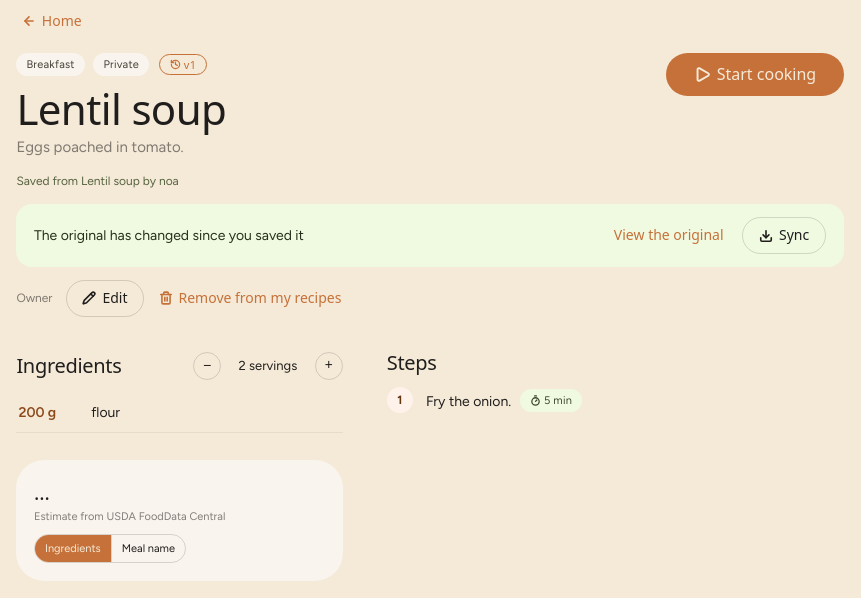
RecipeDetailScreen › SAVE-10 Sync posts for the copy and adopts the copy the API returned
The width and height of the screenshot is (861, 598).
Step 1. Click the button "Sync" → (784, 236), box [742,217,826,254]
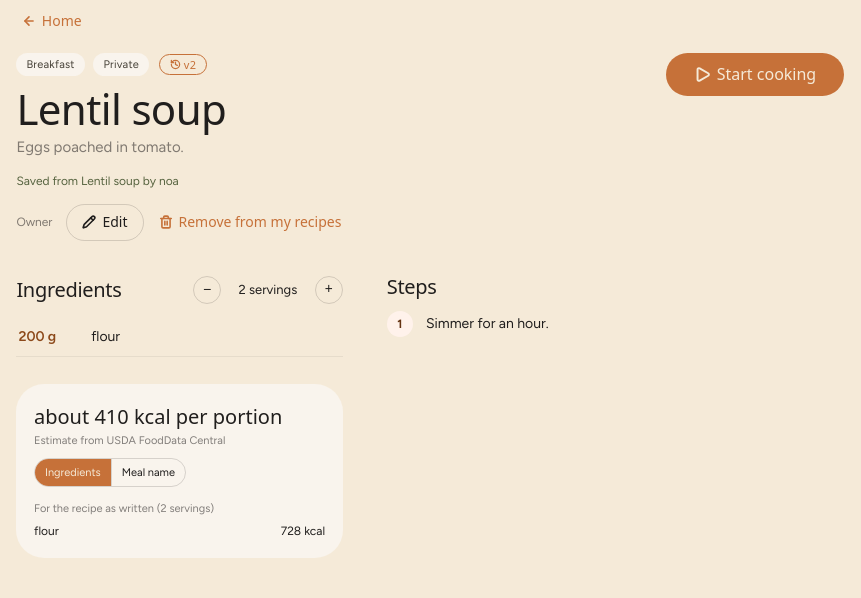
Expected: the text "Simmer for an hour." is shown, [426,315,549,332]
Expected: the text "The original has changed since you saved it" is gone
